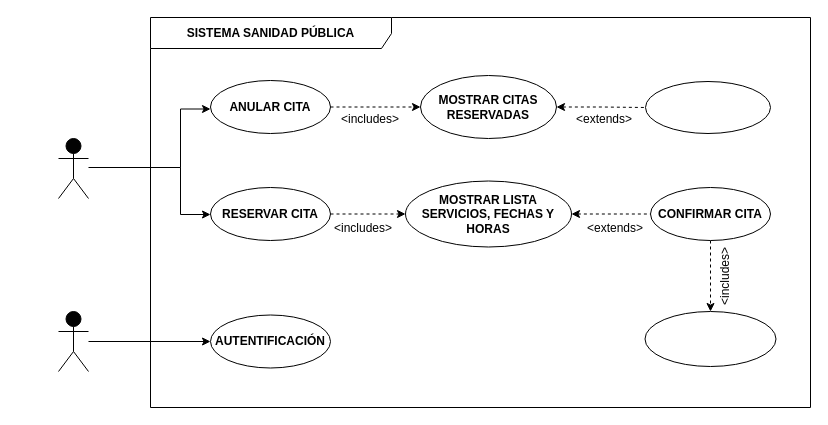
Some shapes in this 828 by 425 pixel diagram are drawn without their labels. Here are the shapes that lost their labels. From the top down, the box of each, then its label:
(644, 80, 770, 134): CONFIRMAR ANULACIÓN
(58, 138, 88, 198): USUARIO AUTENTIFICADO
(58, 310, 88, 372): USUARIO SIN AUTENTIFICAR
(644, 310, 776, 366): JUSTIFICANTE PDF
